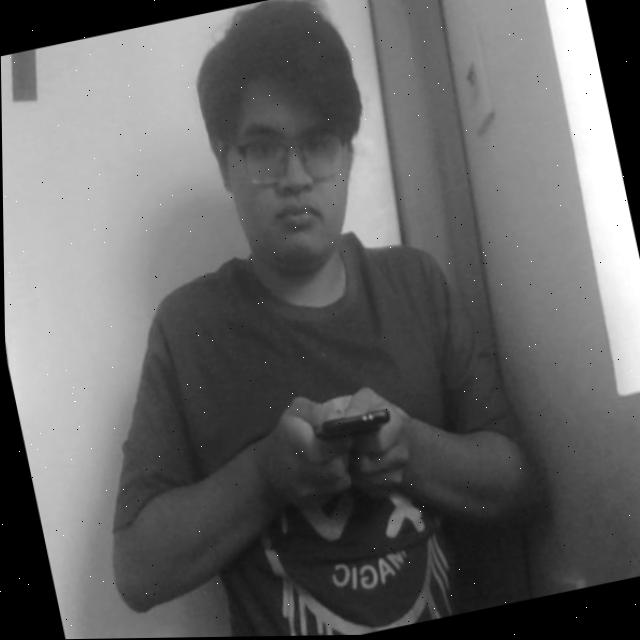phone: (286, 371, 407, 478)
